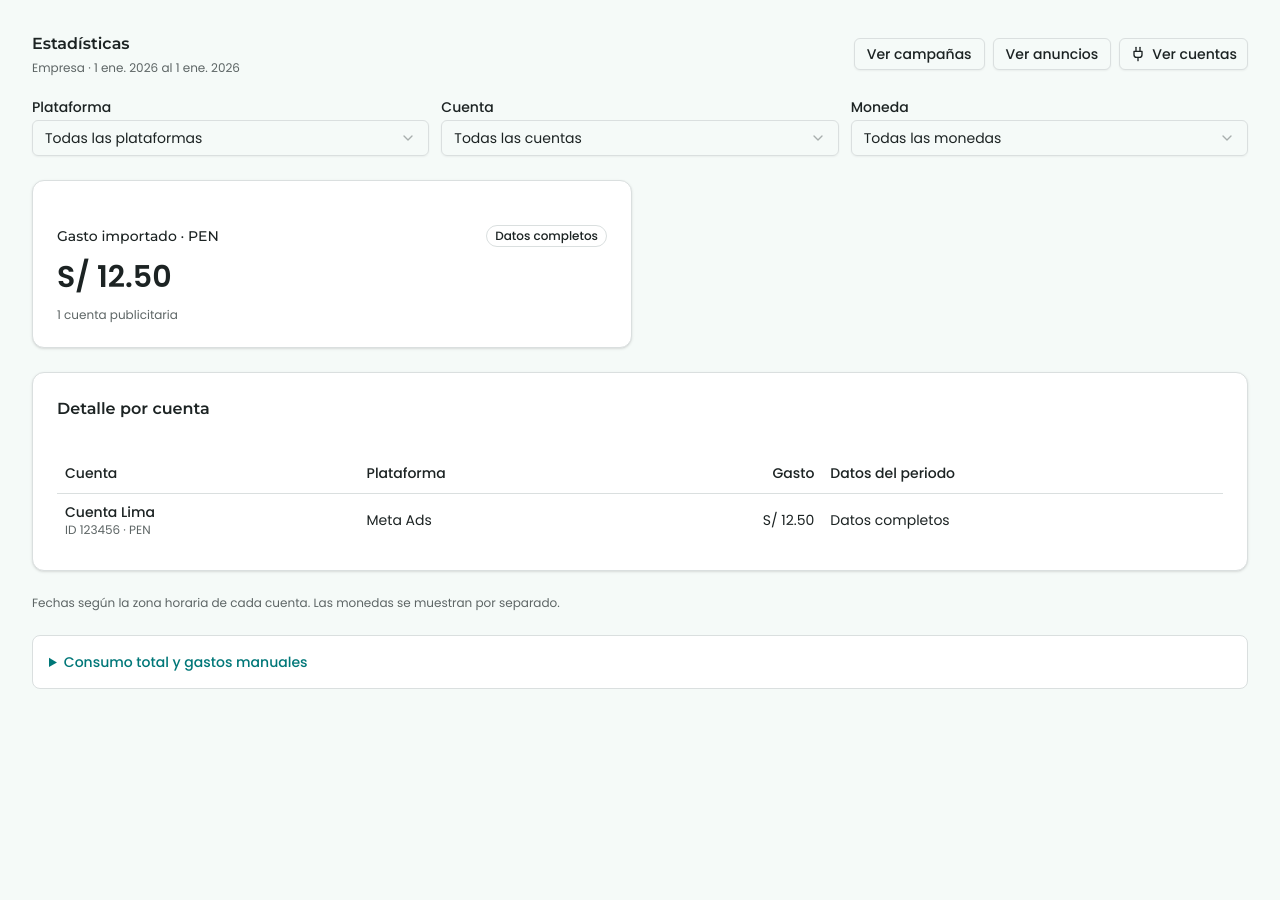
loads manual review only when the user opens it
Expected: the text "Revisión manual disponible" is not shown
Step 1. Click the heading "Consumo total y gastos manuales" → click(186, 662), box [64,652,308,672]
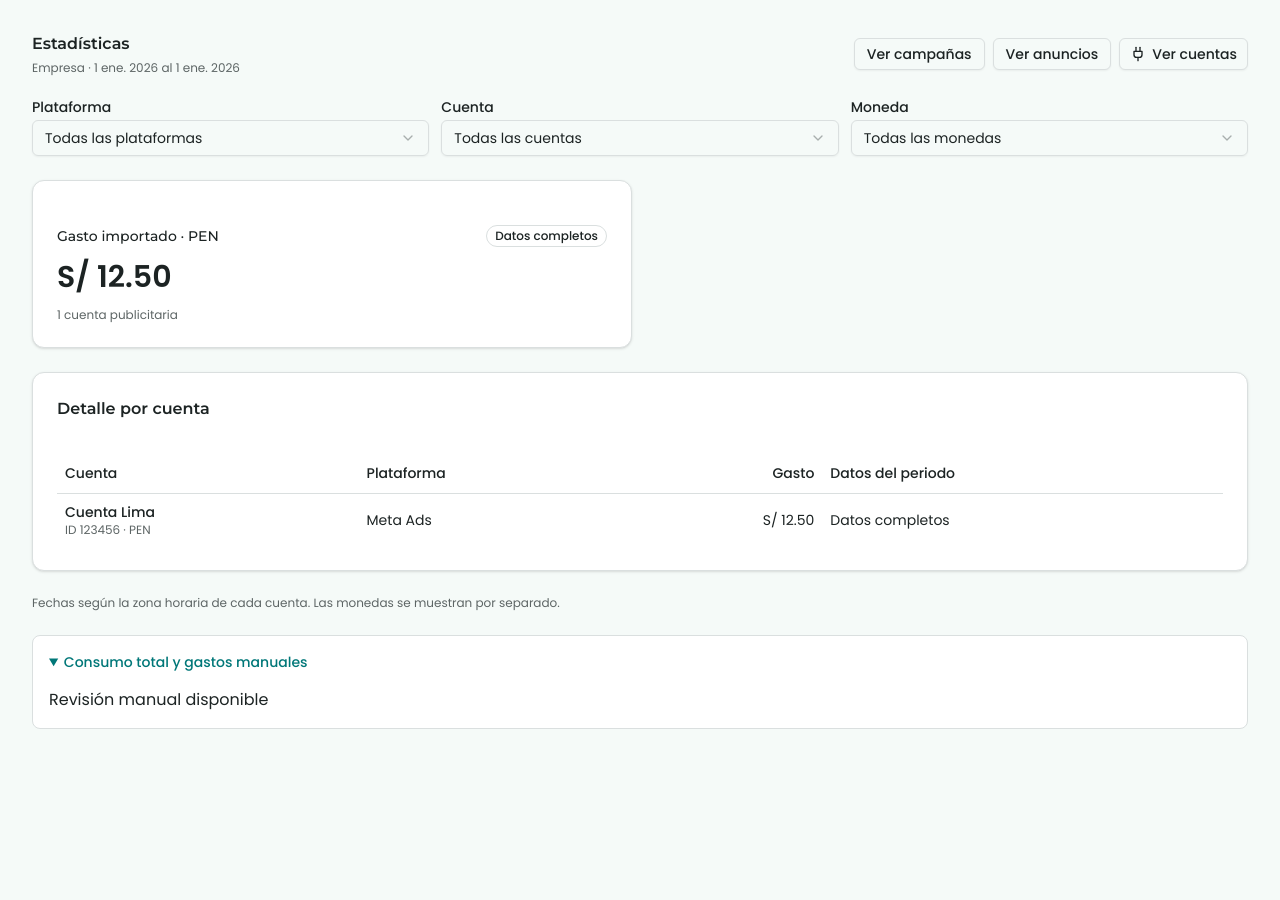
Now the text "Revisión manual disponible" is shown, box [49,688,268,710]
